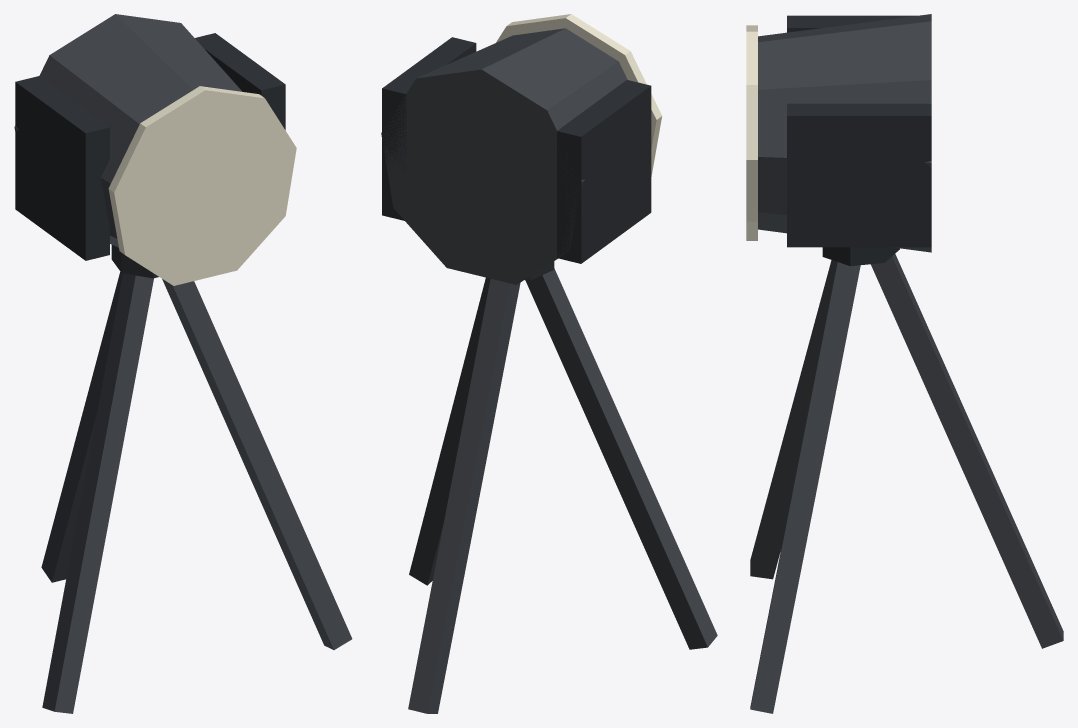
Rendered from env_searchlight.glb.
The picture shows the model from 3 angles, left to right: view 1: azimuth 30°, elevation 25°; view 2: azimuth 150°, elevation 25°; view 3: azimuth 270°, elevation 25°; orthographic projection. The views are drawn at different scales.
Parts seen in each view (by area): view 1: head, base, fx_lens; view 2: head, base, fx_lens; view 3: head, base, fx_lens.
Part boxes in pixels (x1,y1,x2,y2): head: [14, 14, 285, 260]; base: [41, 245, 352, 713]; fx_lens: [108, 86, 296, 285]; head: [381, 28, 651, 284]; base: [408, 261, 717, 713]; fx_lens: [496, 14, 661, 176]; head: [758, 14, 931, 252]; base: [750, 247, 1063, 713]; fx_lens: [746, 25, 757, 240].
Bounding box in the file's own units: 1.23 × 2.38 × 1.1.
Materials: 1 (1 with a texture image).
